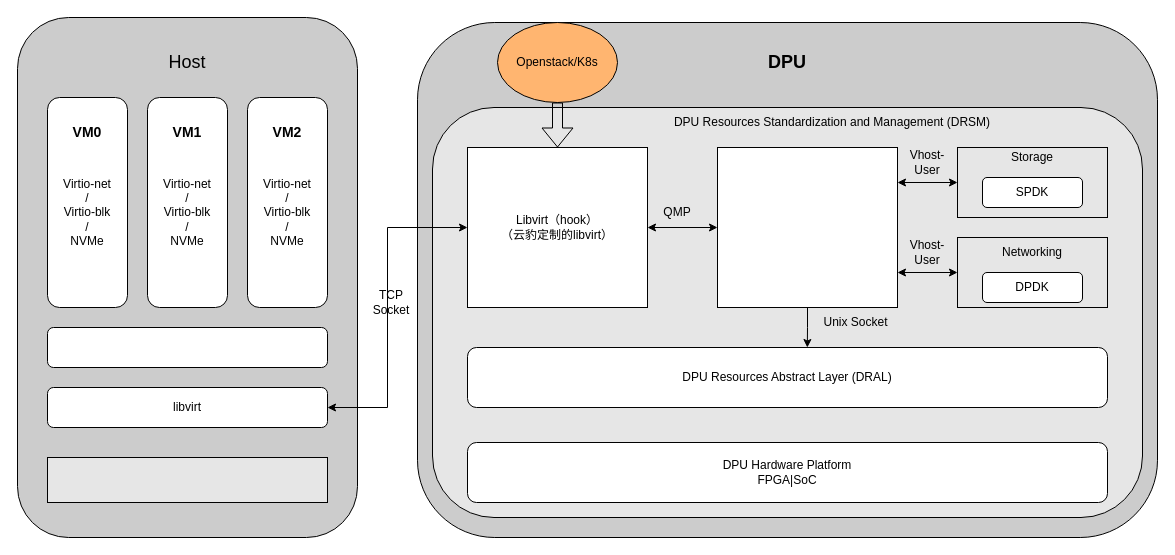
Image size: 1175x555. Some labels were removed from this diagram. The centre of each missing label's shape, as x and y in pixels:
"hyper-commander" belongs at point 807,227.
"Kernel" belongs at point 187,479.
"QEMU" belongs at point 187,347.
